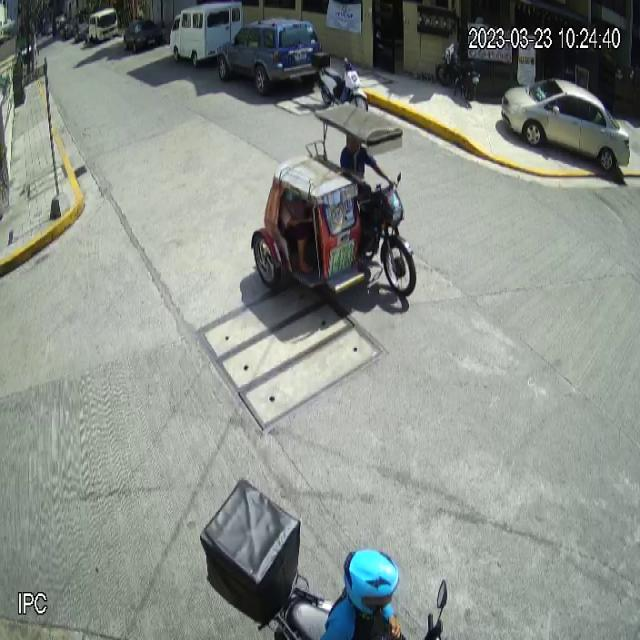Car: (500, 76, 630, 173), (215, 15, 322, 93)
Motorcycle: (311, 51, 368, 105)
Tricycle: (250, 102, 417, 298)
Van: (170, 0, 244, 67)
